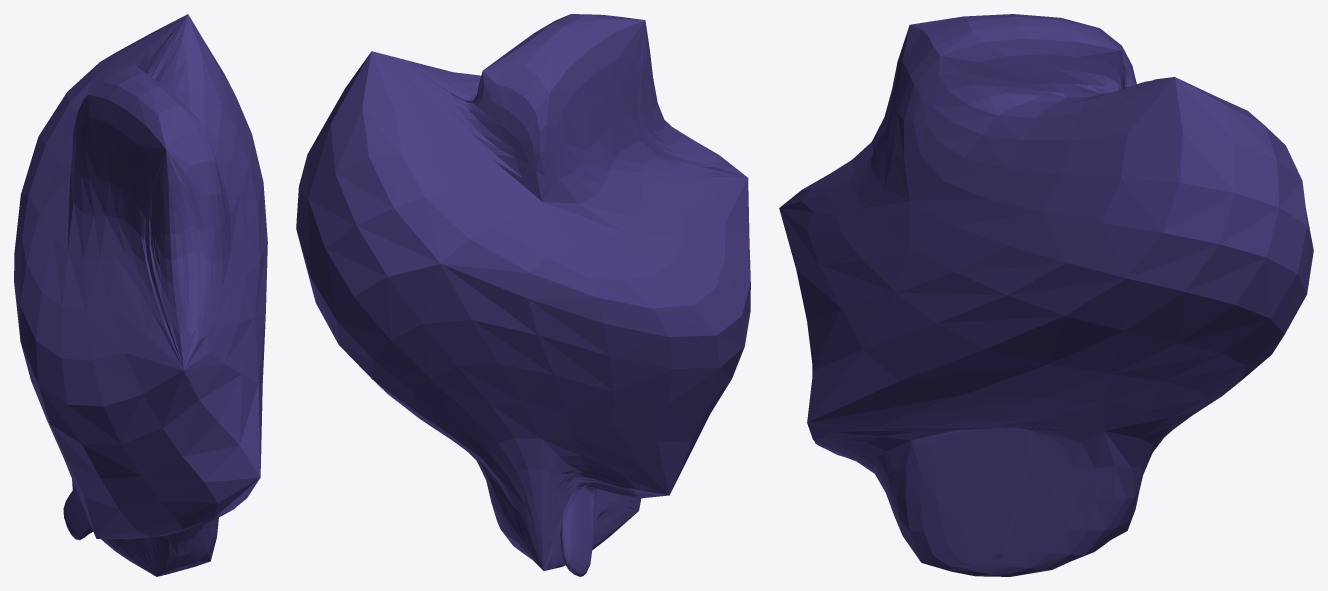
The picture shows the model from 3 angles, left to right: view 1: azimuth 30°, elevation 25°; view 2: azimuth 150°, elevation 25°; view 3: azimuth 270°, elevation 25°; orthographic projection. The views are drawn at different scales.
Visible parts, largest first — view 1: 671_Cube.2695; view 2: 671_Cube.2695; view 3: 671_Cube.2695.
Part boxes in pixels (box(x1,y1,x2,y2)): 671_Cube.2695: box(14, 14, 267, 576); 671_Cube.2695: box(296, 14, 750, 576); 671_Cube.2695: box(779, 14, 1313, 576).
Bounding box in the file's own units: 7.47 × 11.87 × 10.43.
